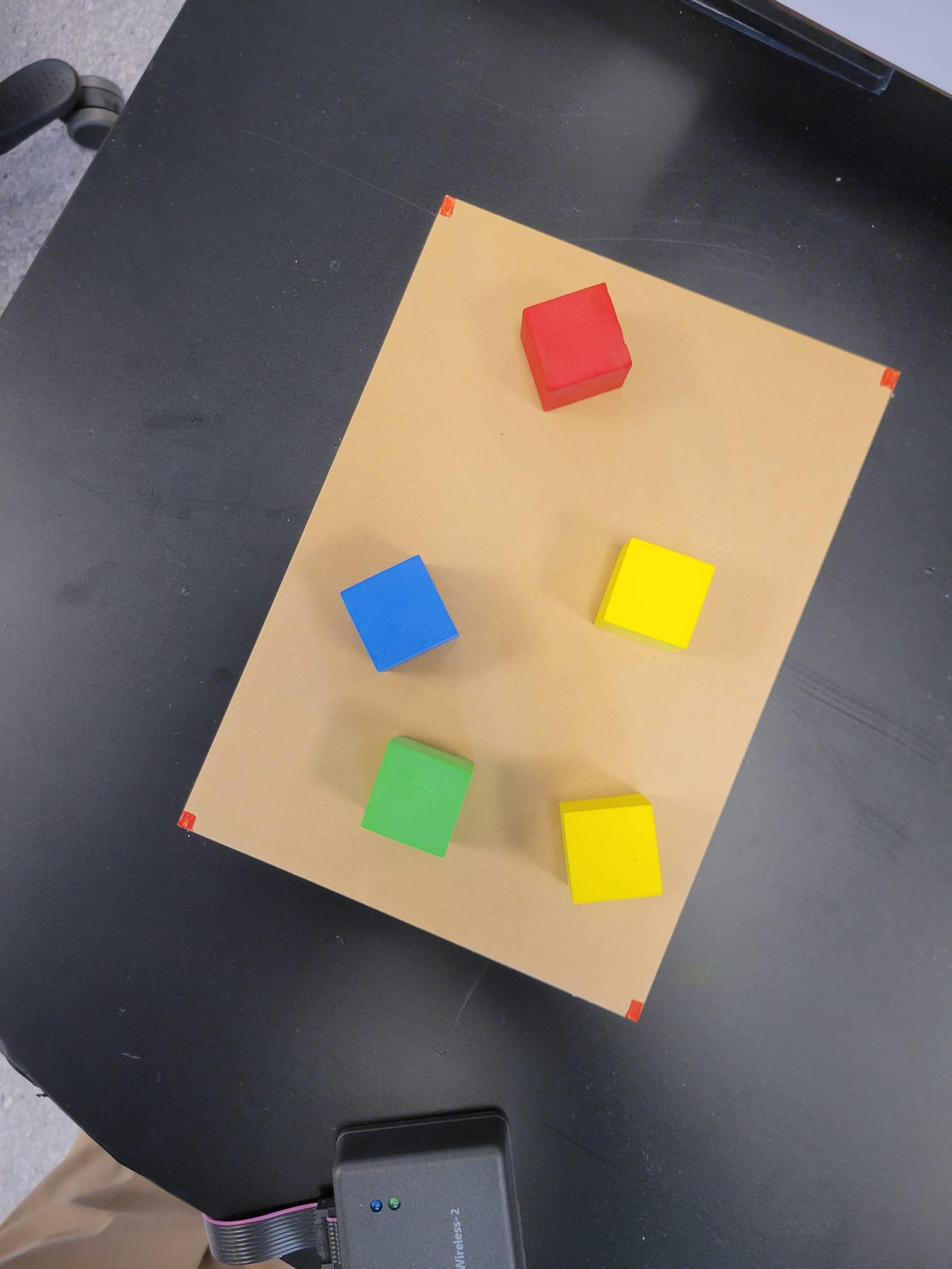cube: (345, 735, 479, 858), (340, 549, 460, 675), (551, 781, 667, 910), (521, 280, 631, 411), (593, 537, 719, 648)
